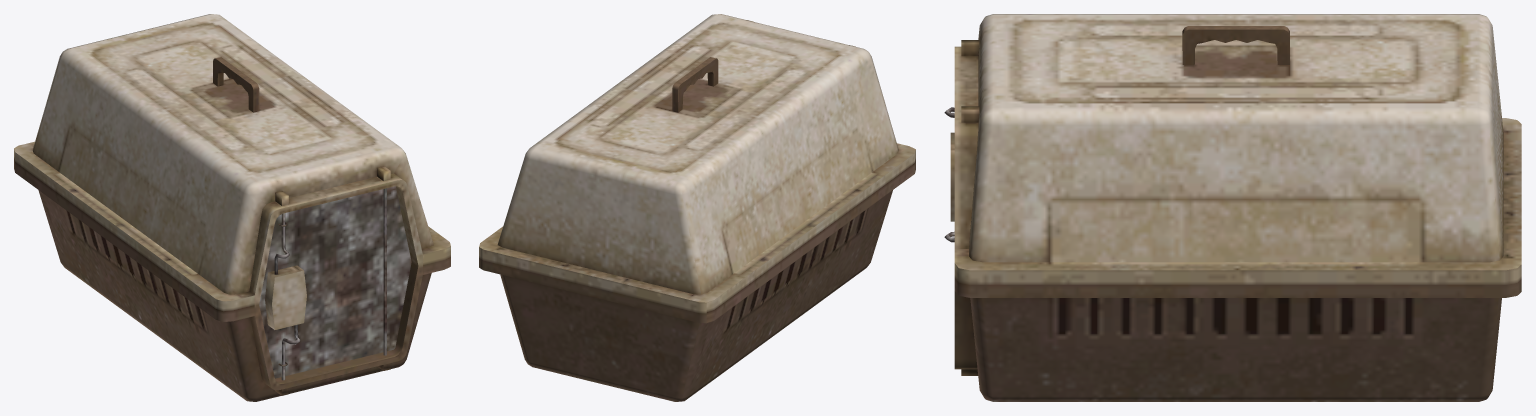
Rendered from 132_CasePet.fbx.
3 views of the same model, side by side, from view 1: azimuth 30°, elevation 25°; view 2: azimuth 150°, elevation 25°; view 3: azimuth 270°, elevation 25° (orthographic). The views are drawn at different scales.
Parts seen in each view (by area): view 1: LOD_1_Group_0_Sub_1__sm30_132_CasePet01A_A_Mat; view 2: LOD_1_Group_0_Sub_1__sm30_132_CasePet01A_A_Mat; view 3: LOD_1_Group_0_Sub_1__sm30_132_CasePet01A_A_Mat.
Boxes of the visible parts, box(x1,y1,x2,y2) form: LOD_1_Group_0_Sub_1__sm30_132_CasePet01A_A_Mat: box(14, 14, 450, 401); LOD_1_Group_0_Sub_1__sm30_132_CasePet01A_A_Mat: box(479, 14, 915, 401); LOD_1_Group_0_Sub_1__sm30_132_CasePet01A_A_Mat: box(944, 14, 1521, 401).
Size of the model in its own units: 0.5231 by 0.5265 by 0.8378.
